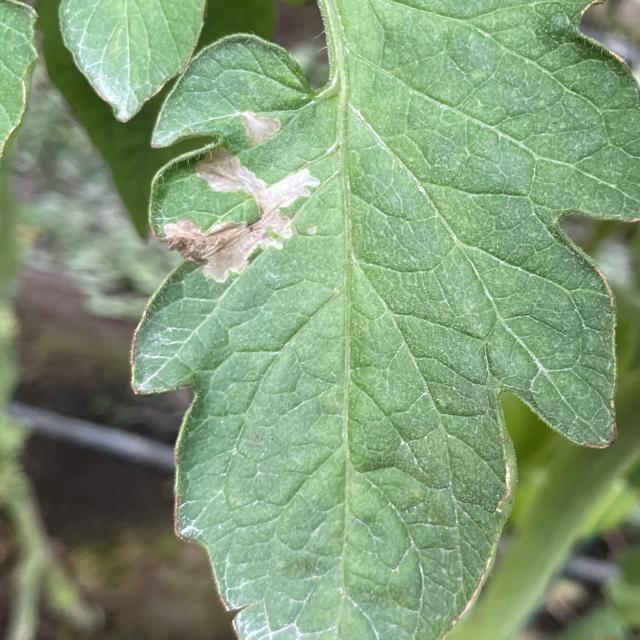Tuta absoluta: (152, 122, 323, 303), (239, 102, 284, 146)
